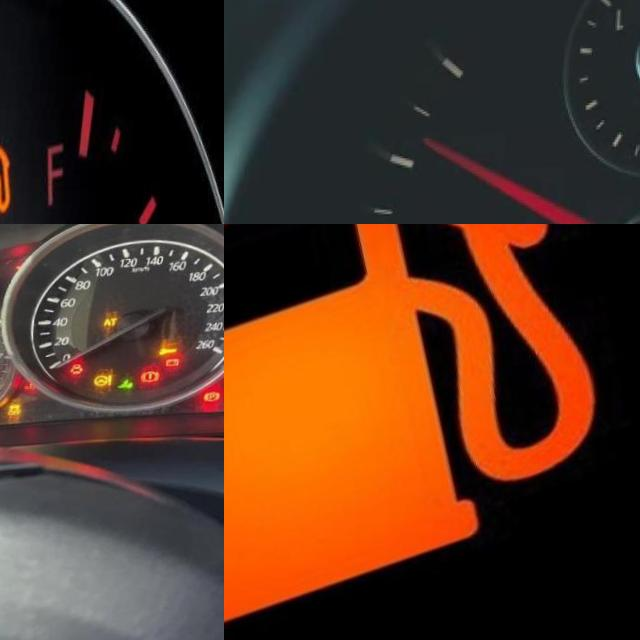Electronic Power Steering: (97, 377, 117, 392)
High Engine Coolant Temperature: (28, 384, 41, 392)
